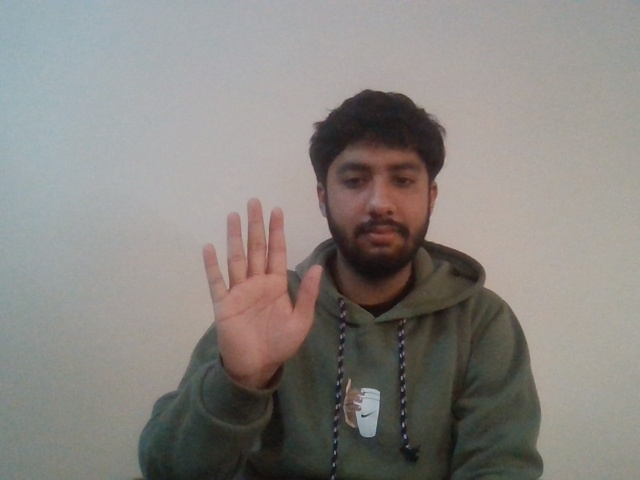Hello: (185, 196, 327, 372)
